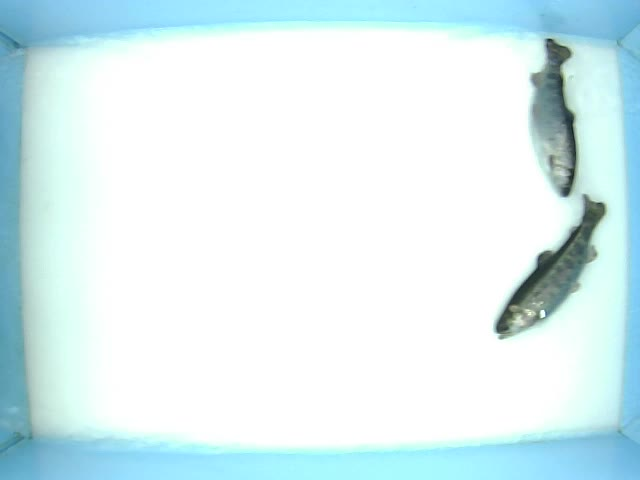fish: (474, 183, 607, 356), (506, 35, 578, 204)
